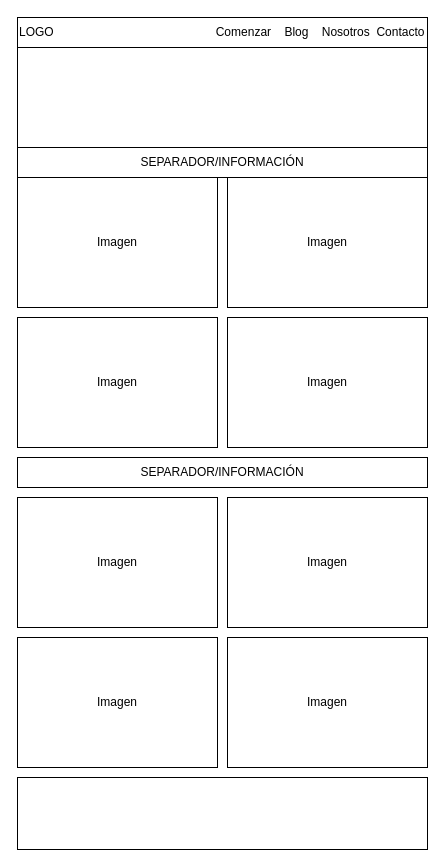
The diagram is 445 pixels wide and 867 high, and some of its shapes have lost their labels. The shapes that lost their labels are listed below. From the top down, each one's centre as x and y in pixels, then its label:
At pixel 222 97: "Portada Información".
At pixel 222 813: "Pie de pagina".
